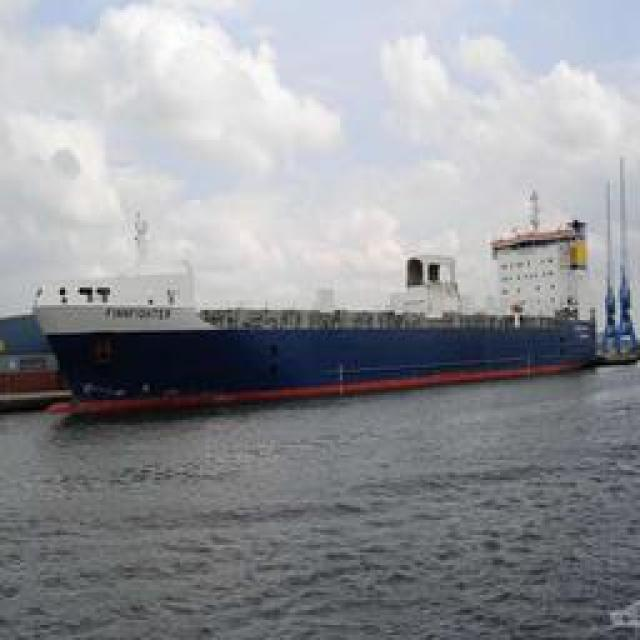ship2: (33, 185, 603, 415)
